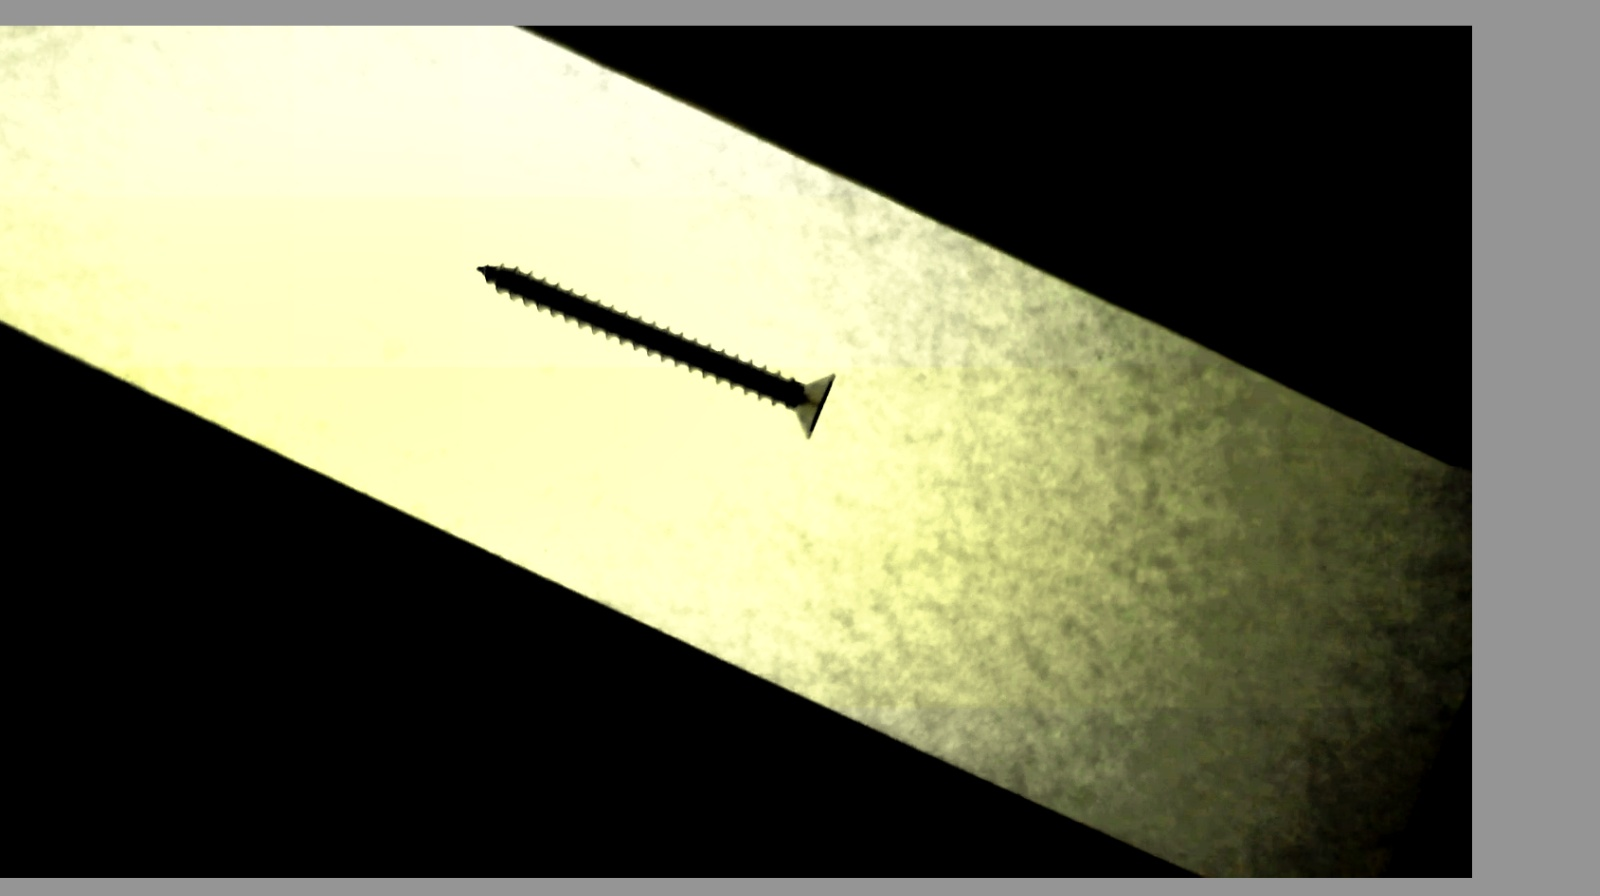S002: (471, 252, 845, 441)
